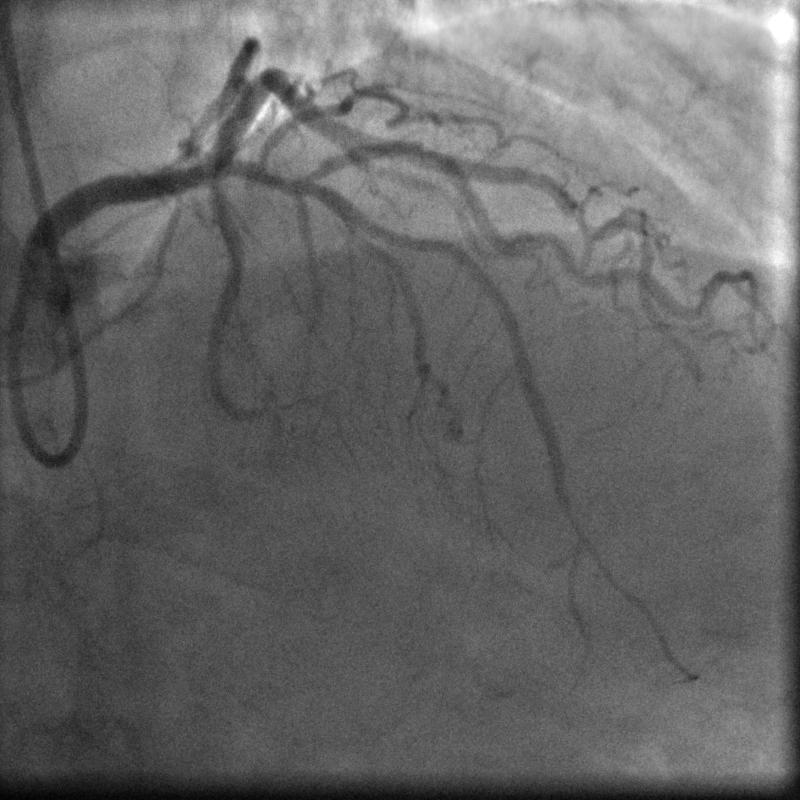Stenosis: (395, 131, 449, 173)
